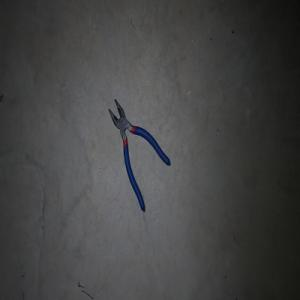Pliers: (108, 98, 170, 212)
